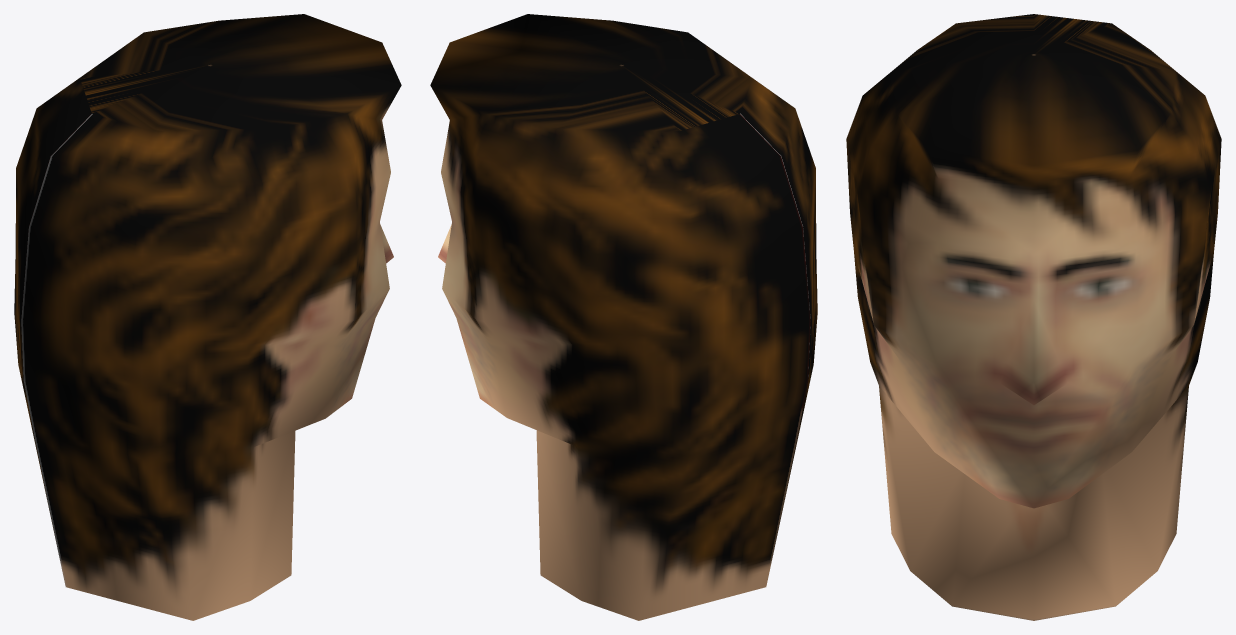
File: human2h3.gltf
3 renders of one model, left to right at view 1: azimuth 30°, elevation 25°; view 2: azimuth 150°, elevation 25°; view 3: azimuth 270°, elevation 25°, orthographic. The views are drawn at different scales.
Visible parts, largest first — view 1: human2h3; view 2: human2h3; view 3: human2h3.
Boxes of the visible parts, x1,y1,x2,y2 form: human2h3: (14,14,401,620); human2h3: (430,14,817,620); human2h3: (846,14,1221,620).
Bounding box in the file's own units: 1.39 × 1.76 × 1.13.
